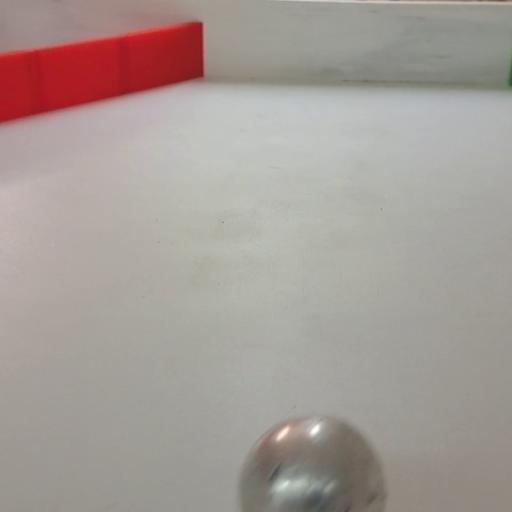alive: (237, 414, 391, 512)
